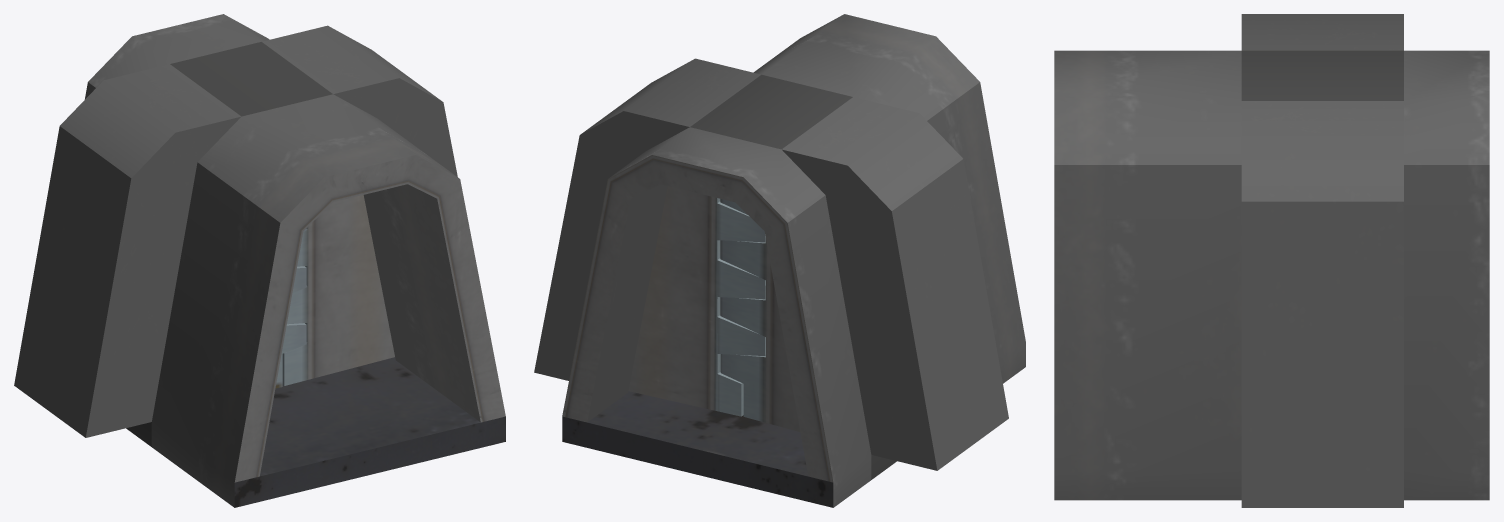
File: blastDoor_small_UV.fbx
3 views of the same model, side by side, from view 1: azimuth 30°, elevation 25°; view 2: azimuth 150°, elevation 25°; view 3: azimuth 270°, elevation 25° (orthographic). The views are drawn at different scales.
Parts seen in each view (by area): view 1: Arch, L_Door, R_Door; view 2: Arch, L_Door, R_Door; view 3: Arch.
Boxes of the visible parts, bbox=[...] form: Arch: bbox=[14, 14, 505, 507]; L_Door: bbox=[282, 195, 394, 385]; R_Door: bbox=[275, 228, 306, 388]; Arch: bbox=[534, 14, 1025, 507]; L_Door: bbox=[628, 186, 765, 416]; R_Door: bbox=[720, 199, 800, 431]; Arch: bbox=[1054, 14, 1489, 507].
Size of the model in its own units: 91.6 by 67.02 by 75.72.
